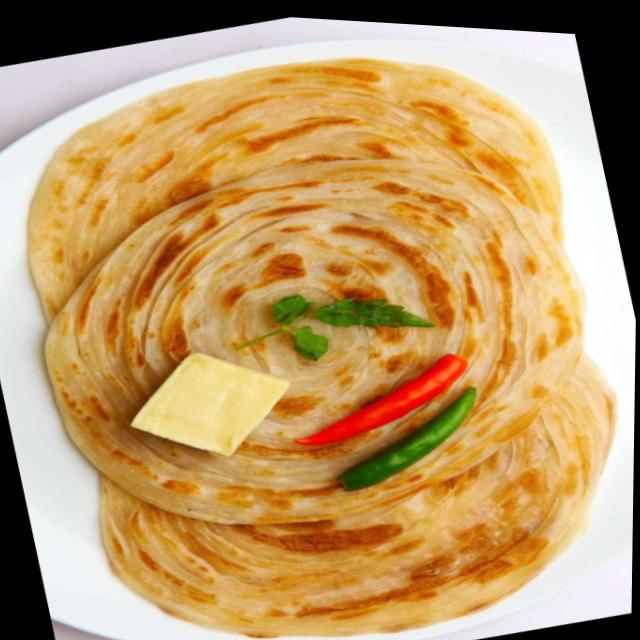PAROTTA: (28, 57, 617, 640)
